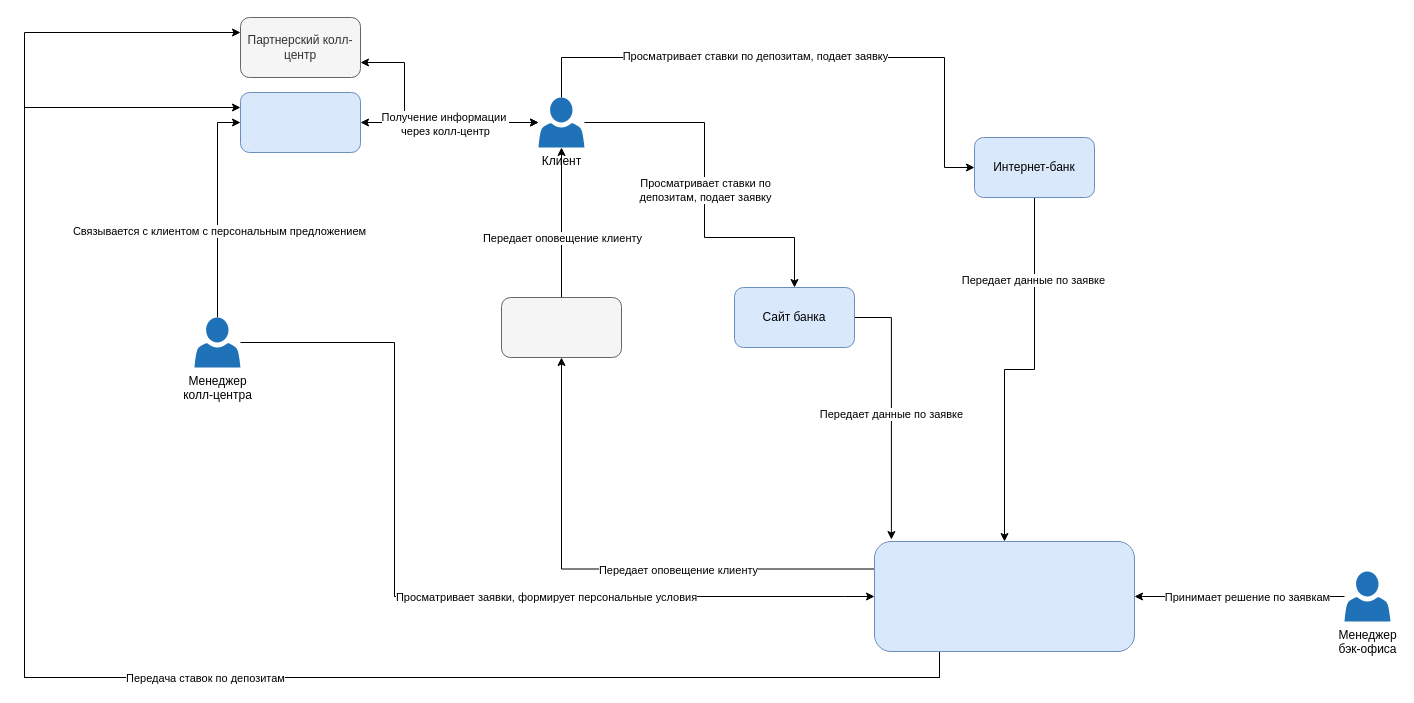
Image size: 1414x703. Some labels were removed from this diagram. Here are the shapes that lost their labels. From the top down, the centre of each, then its label:
(x=300, y=122): Колл-центр
(x=561, y=327): Сервис СМС Оповещения
(x=1004, y=596): АБС
